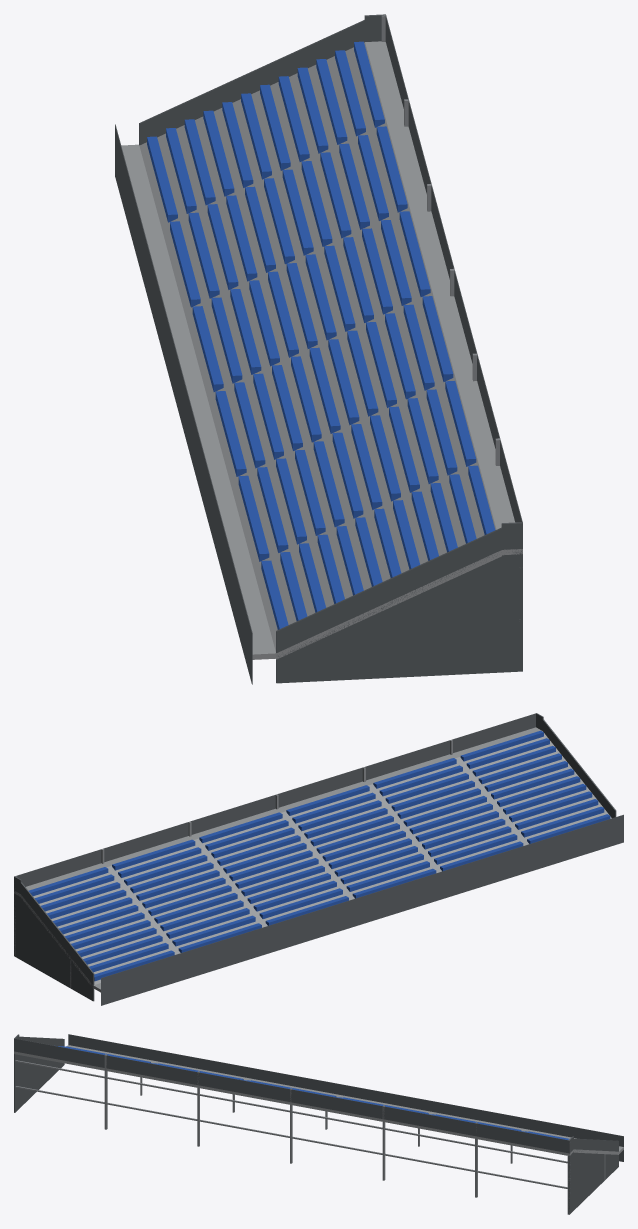
The model's file is mza_stand_alta_c.glb.
3 renders of one model, top to bottom at view 1: azimuth 30°, elevation 25°; view 2: azimuth 150°, elevation 25°; view 3: azimuth 270°, elevation 25°, orthographic. The views are drawn at different scales.
Parts seen in each view (by area): view 1: monza-alta-c; view 2: monza-alta-c; view 3: monza-alta-c.
Part boxes in pixels (<box>): monza-alta-c: <box>115,14,522,684</box>; monza-alta-c: <box>14,713,623,1005</box>; monza-alta-c: <box>14,1034,623,1214</box>.
Bounding box in the file's own units: 30.99 × 6.92 × 51.56.
